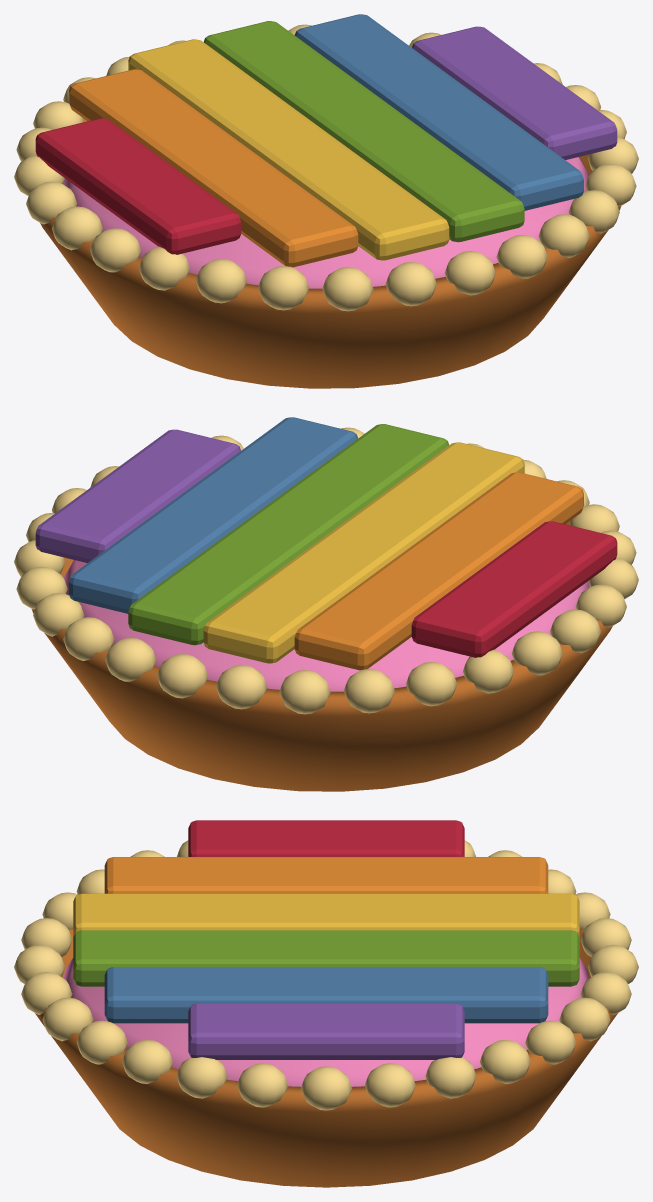
File: rainbow-pie.glb
3 views of the same model, one above another, from view 1: azimuth 30°, elevation 25°; view 2: azimuth 150°, elevation 25°; view 3: azimuth 270°, elevation 25° (orthographic).
Parts seen in each view (by area): view 1: edible_pie_crust, edible_rainbow_filling.002, edible_rainbow_filling.003, edible_rainbow_filling.001, edible_rainbow_filling.004, edible_rainbow_filling, edible_rainbow_filling.005, edible_filling, edible_crimp.019, edible_crimp.018, edible_crimp.020, edible_crimp.017 (+13 smaller); view 2: edible_pie_crust, edible_rainbow_filling.002, edible_rainbow_filling.003, edible_rainbow_filling.001, edible_rainbow_filling.004, edible_rainbow_filling, edible_rainbow_filling.005, edible_filling, edible_crimp.009, edible_crimp.010, edible_crimp.008, edible_crimp.011 (+13 smaller); view 3: edible_pie_crust, edible_rainbow_filling.003, edible_rainbow_filling.004, edible_rainbow_filling.002, edible_rainbow_filling.001, edible_rainbow_filling.005, edible_rainbow_filling, edible_filling, edible_crimp, edible_crimp.001, edible_crimp.027, edible_crimp.003 (+17 smaller).
Boxes of the visible parts, x1,y1,x2,y2 form: edible_pie_crust: [40, 118, 621, 388]; edible_rainbow_filling.002: [128, 39, 449, 260]; edible_rainbow_filling.003: [204, 21, 524, 242]; edible_rainbow_filling.001: [69, 69, 358, 267]; edible_rainbow_filling.004: [294, 14, 583, 210]; edible_rainbow_filling: [35, 118, 241, 254]; edible_rainbow_filling.005: [412, 26, 617, 159]; edible_filling: [63, 157, 589, 288]; edible_crimp.019: [322, 267, 373, 311]; edible_crimp.018: [258, 266, 309, 310]; edible_crimp.020: [385, 262, 436, 306]; edible_crimp.017: [196, 259, 246, 303]; edible_pie_crust: [31, 521, 612, 791]; edible_rainbow_filling.002: [203, 442, 524, 663]; edible_rainbow_filling.003: [128, 424, 448, 645]; edible_rainbow_filling.001: [294, 472, 583, 670]; edible_rainbow_filling.004: [69, 417, 358, 613]; edible_rainbow_filling: [411, 521, 617, 657]; edible_rainbow_filling.005: [35, 429, 240, 562]; edible_filling: [63, 560, 589, 691]; edible_crimp.009: [279, 670, 330, 714]; edible_crimp.010: [343, 669, 394, 713]; edible_crimp.008: [216, 665, 267, 709]; edible_crimp.011: [406, 662, 456, 706]; edible_pie_crust: [35, 929, 617, 1187]; edible_rainbow_filling.003: [73, 930, 579, 986]; edible_rainbow_filling.004: [104, 967, 548, 1023]; edible_rainbow_filling.002: [73, 893, 579, 937]; edible_rainbow_filling.001: [104, 857, 548, 893]; edible_rainbow_filling.005: [188, 1003, 464, 1059]; edible_rainbow_filling: [188, 820, 464, 856]; edible_filling: [63, 958, 589, 1086]; edible_crimp: [301, 1066, 351, 1110]; edible_crimp.001: [364, 1063, 415, 1107]; edible_crimp.027: [237, 1063, 288, 1107]; edible_crimp.003: [480, 1040, 530, 1083].
Size of the model in its own units: 0.2928 by 0.086 by 0.2928.
